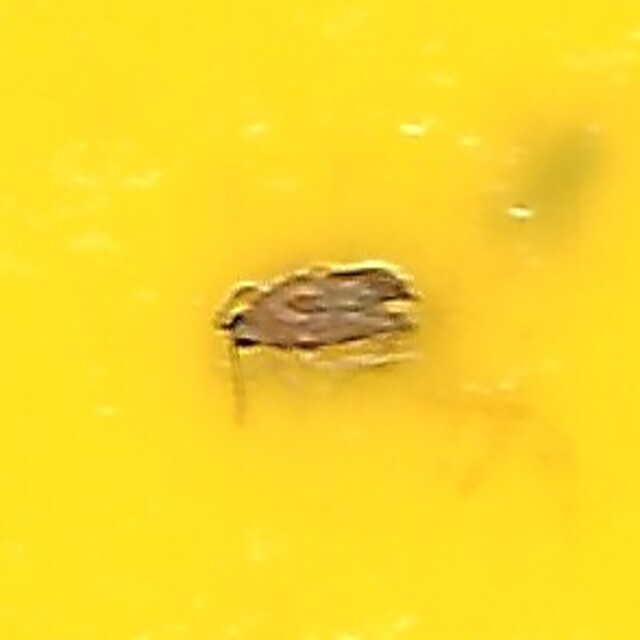Trichoptera: (218, 260, 422, 380)
